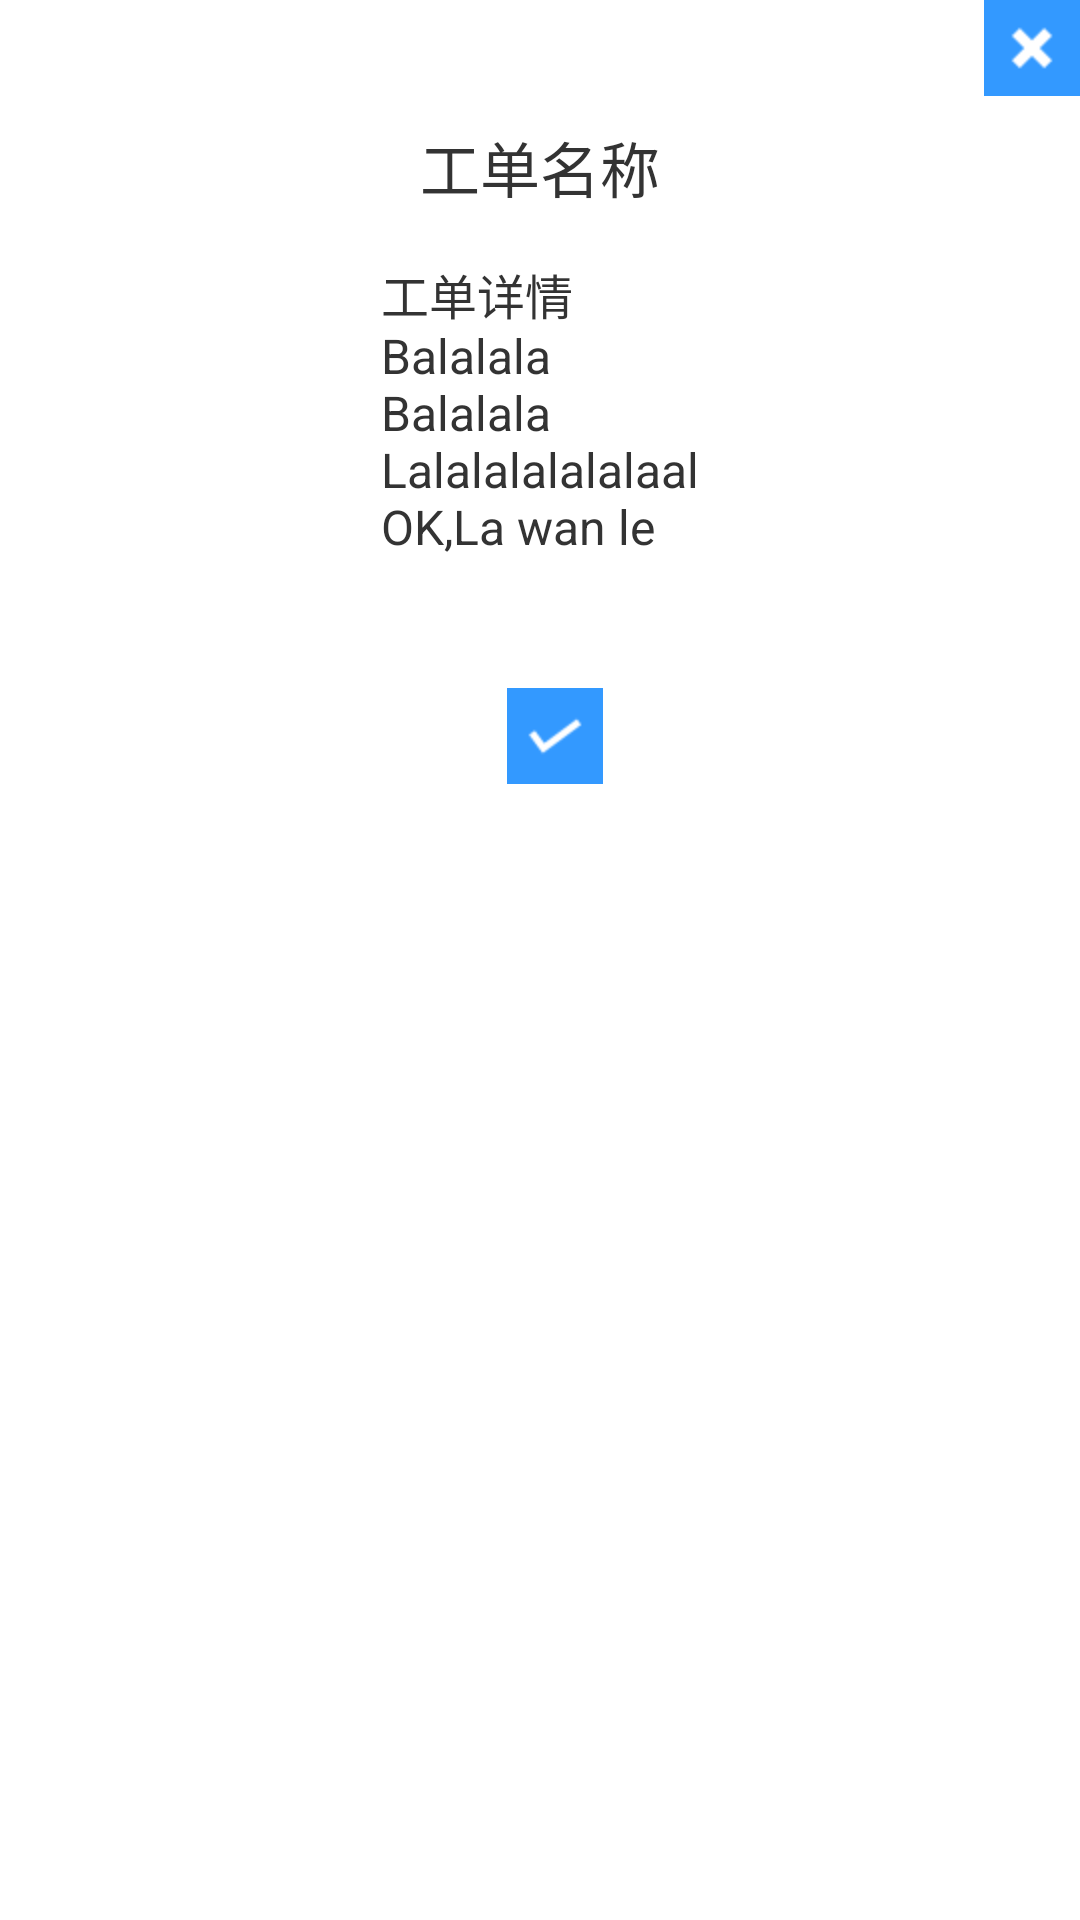

Icon bounding boxes for this 1080x1920 phone screenshot, format [x1,y1,x2,y2]:
cancel order: [984,0,1080,96]
handle order: [507,688,603,784]
